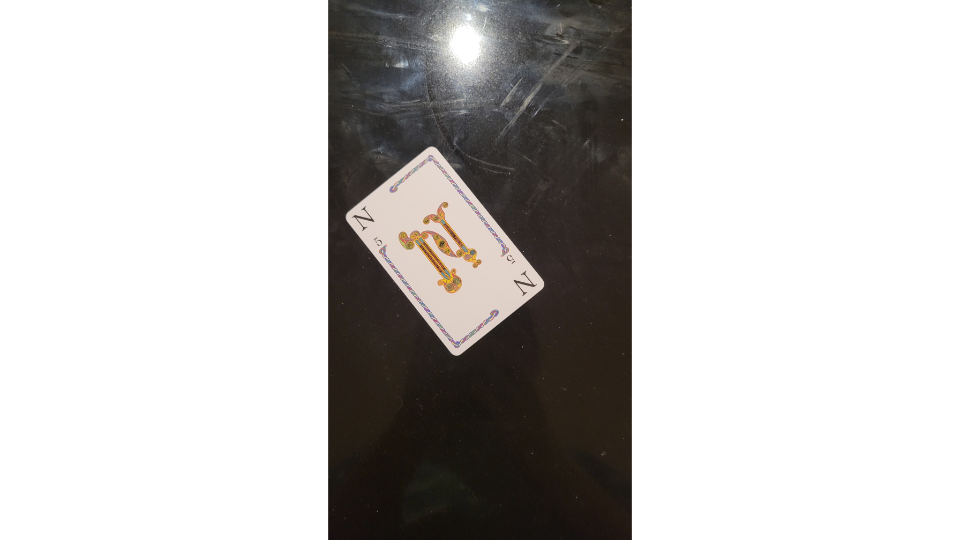N: (341, 143, 548, 358)
